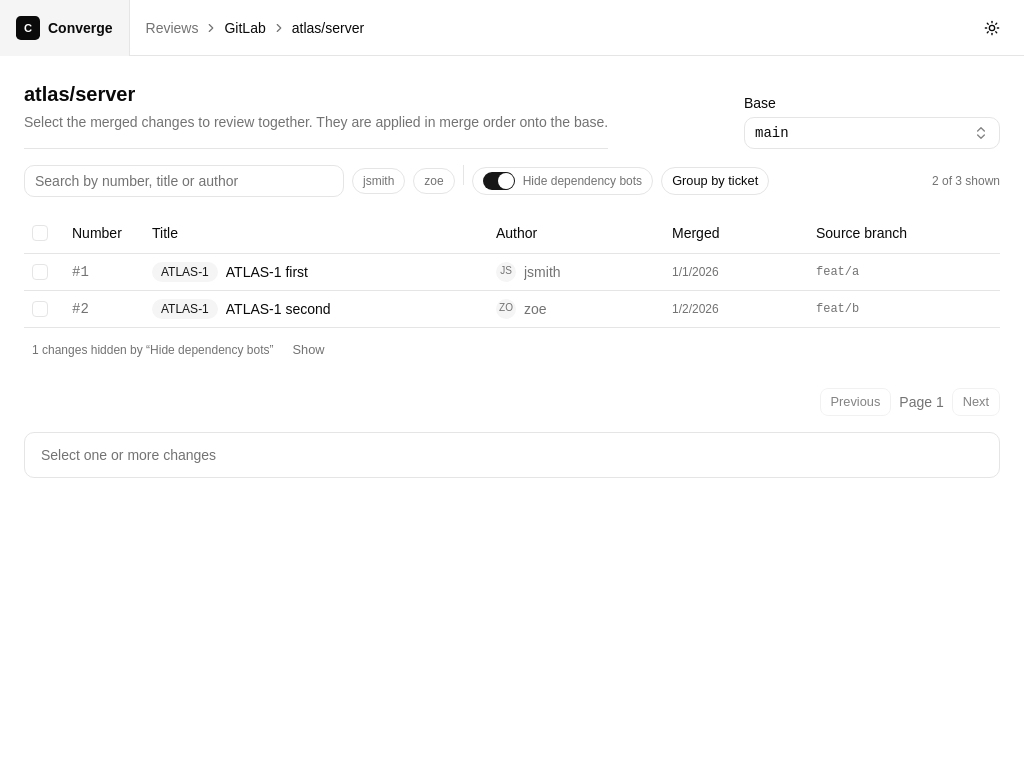
Test: SelectChangesPage › shows the API detail when creating a review fails
Click the text "ATLAS-1 first": (267, 272) [226,262,308,282]
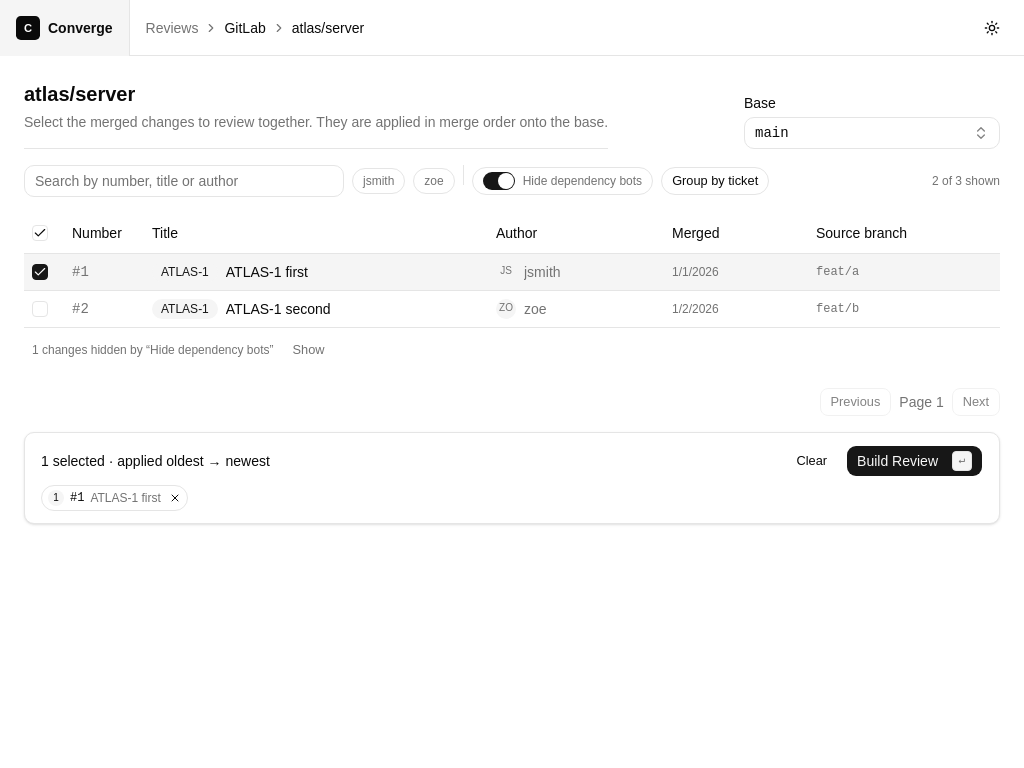
Click the button "Build Review ↵": (915, 460) [846,444,983,476]
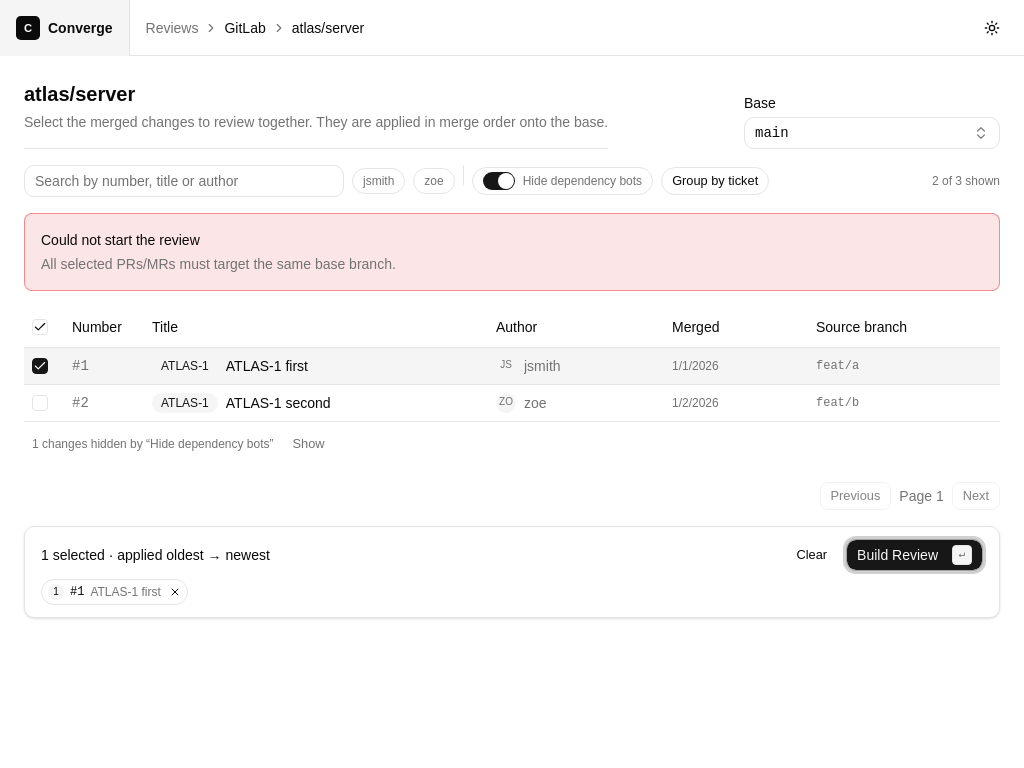
expect the text "All selected PRs/MRs must target the same base branch." is shown: met, box [41,254,396,274]
